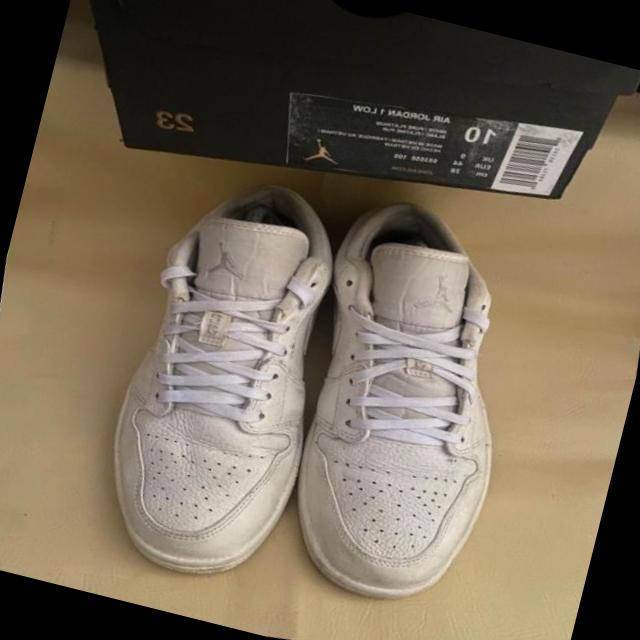nike_fake_airforce: (51, 144, 388, 610), (243, 172, 564, 630)
